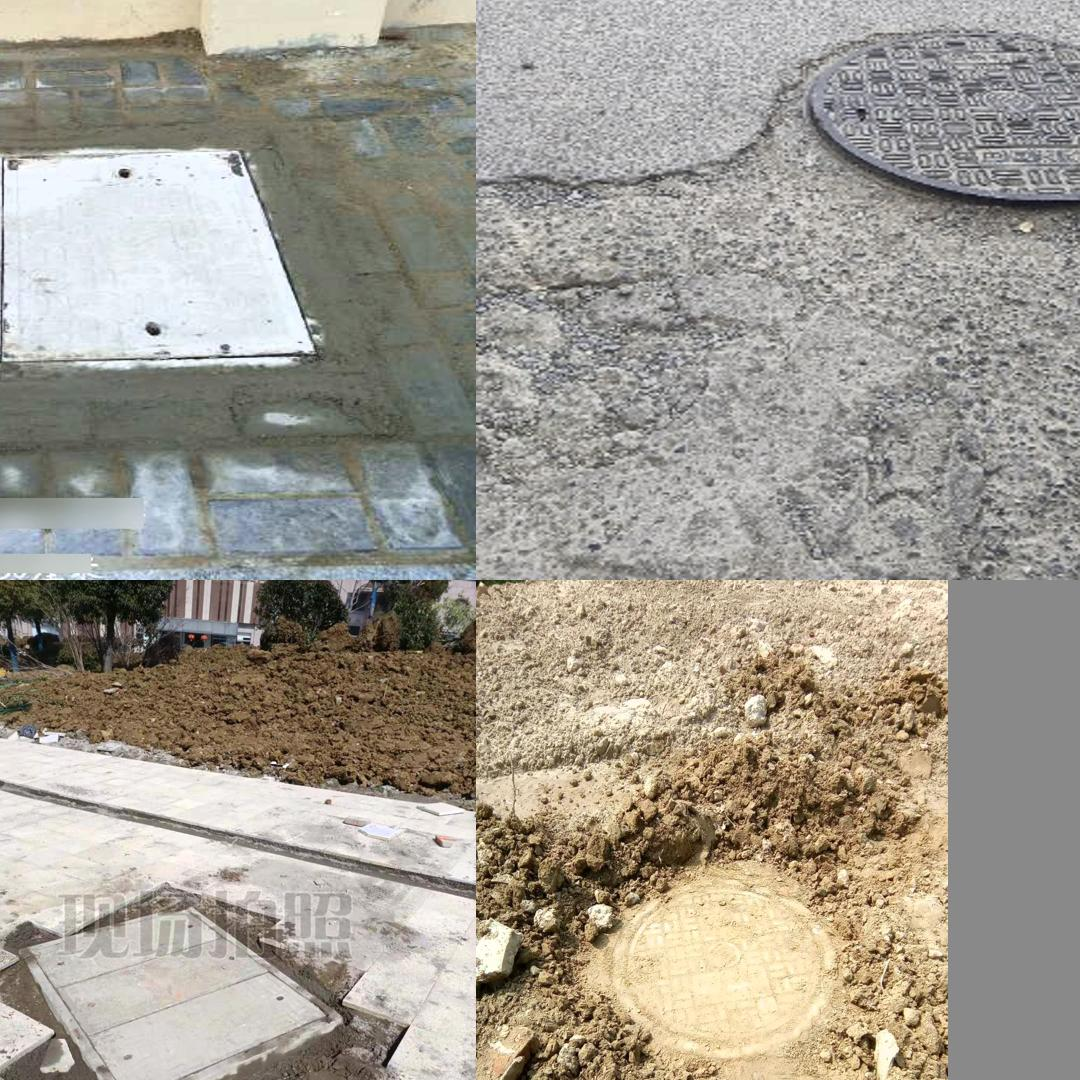good: (0, 147, 323, 376), (17, 905, 343, 1080), (789, 30, 1080, 204), (611, 879, 837, 1055)
